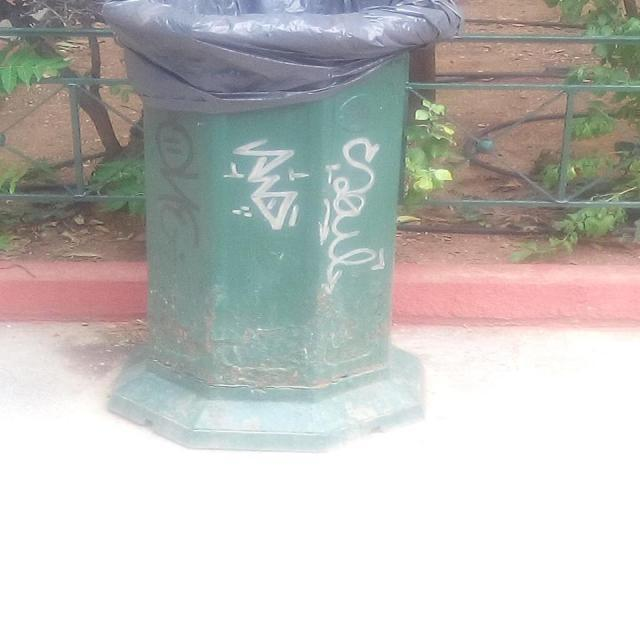nonspitting: (318, 137, 386, 294), (224, 134, 308, 232), (152, 113, 205, 249)
